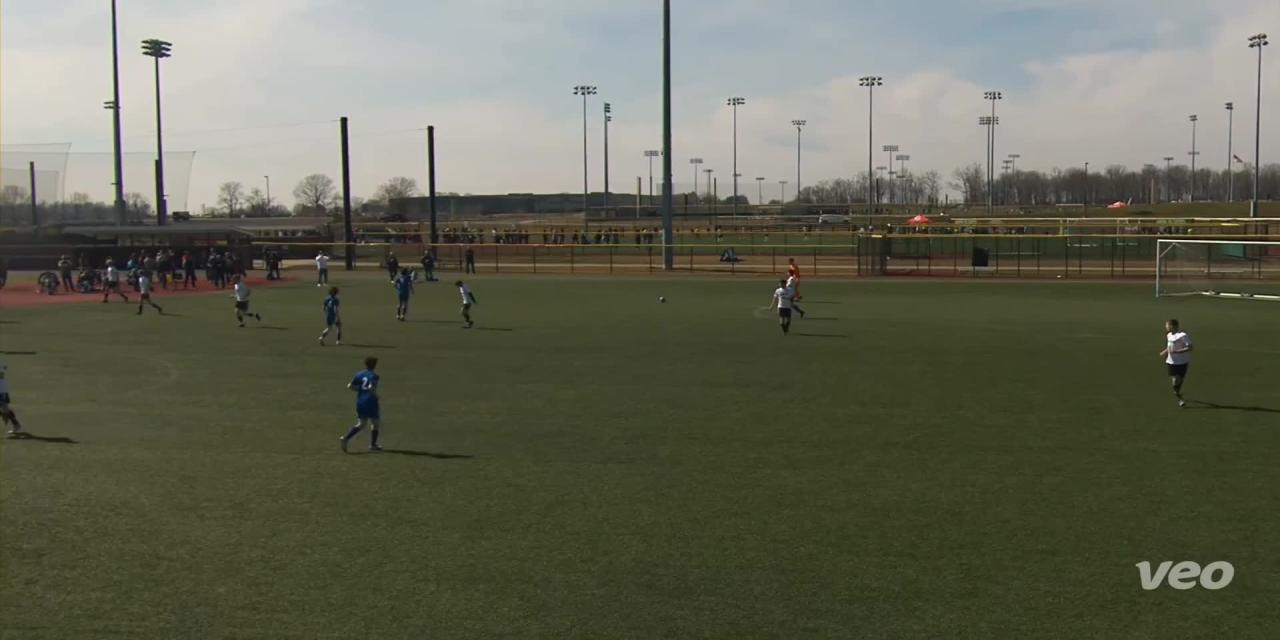goal: (1140, 229, 1280, 306)
sports ball: (653, 290, 669, 305)
